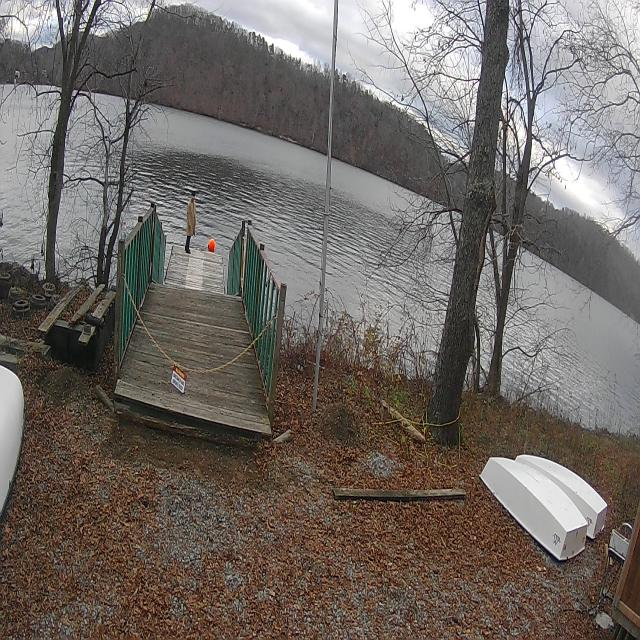Buoy: (202, 224, 222, 262)
